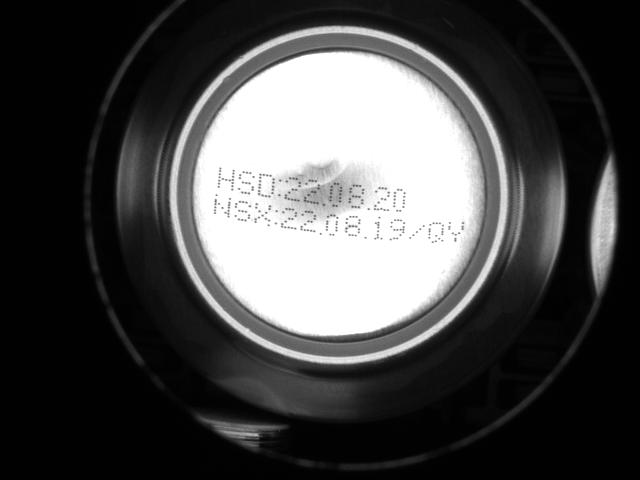.: (320, 192, 327, 207), (316, 221, 323, 236), (364, 196, 371, 211), (362, 225, 369, 240)
/: (407, 219, 426, 244)
0: (328, 179, 343, 210), (324, 209, 339, 240), (391, 184, 406, 215)
1: (373, 213, 384, 241)
2: (283, 175, 301, 203), (302, 176, 320, 204), (280, 204, 298, 232), (298, 207, 316, 235), (372, 184, 390, 212)
8: (348, 183, 364, 209), (344, 212, 360, 238)
9: (388, 216, 406, 242)
:: (276, 176, 282, 198), (272, 206, 278, 228)
D: (257, 170, 275, 200)
H: (216, 165, 235, 195)
N: (212, 192, 233, 221)
Q: (427, 217, 446, 247)
S: (237, 169, 255, 196), (233, 198, 251, 225)
X: (253, 200, 273, 228)
Y: (446, 217, 465, 247)
